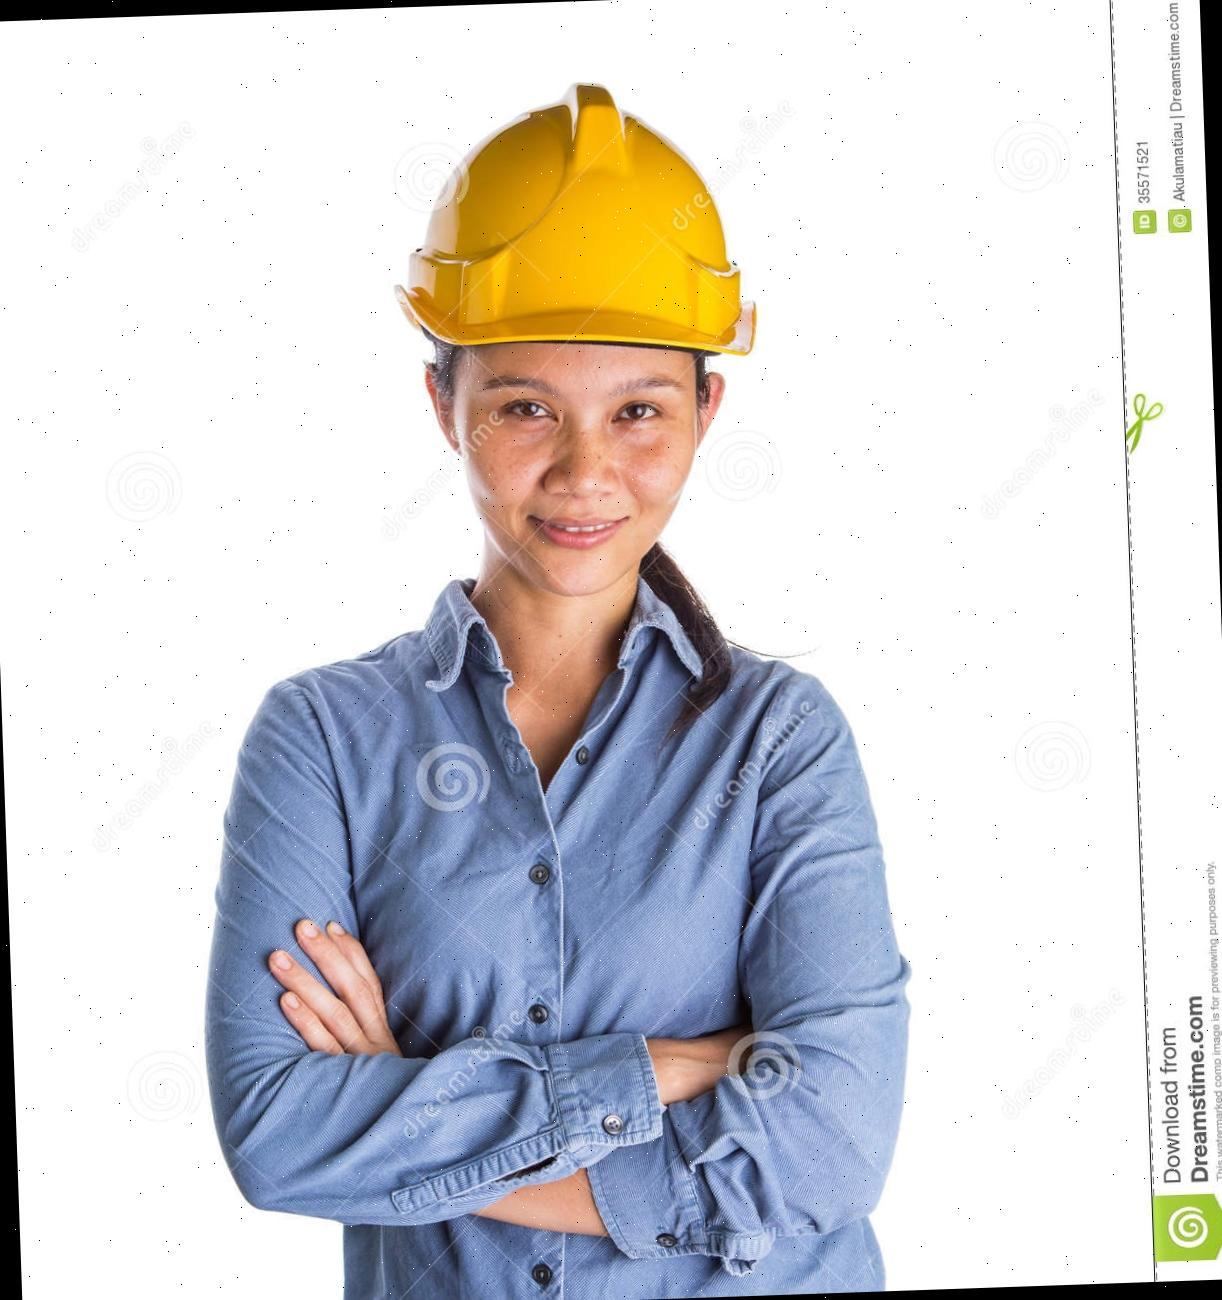helmet: (393, 80, 750, 376)
no_wear: (222, 609, 905, 1300)
